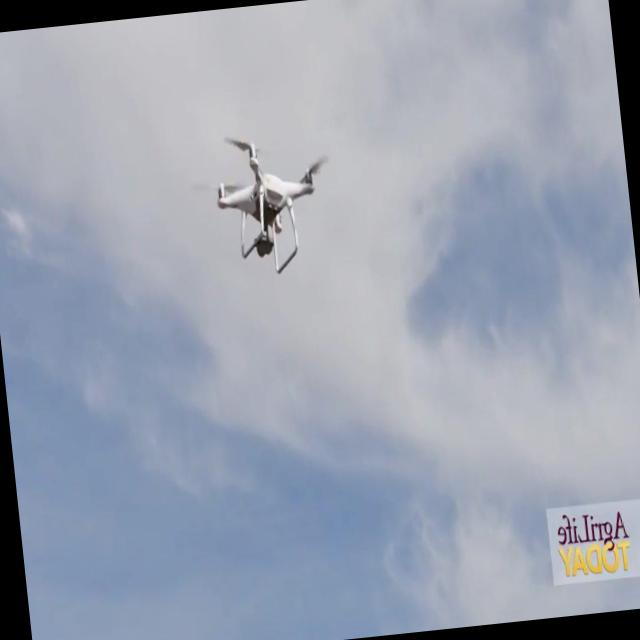drone: (210, 133, 330, 282)
